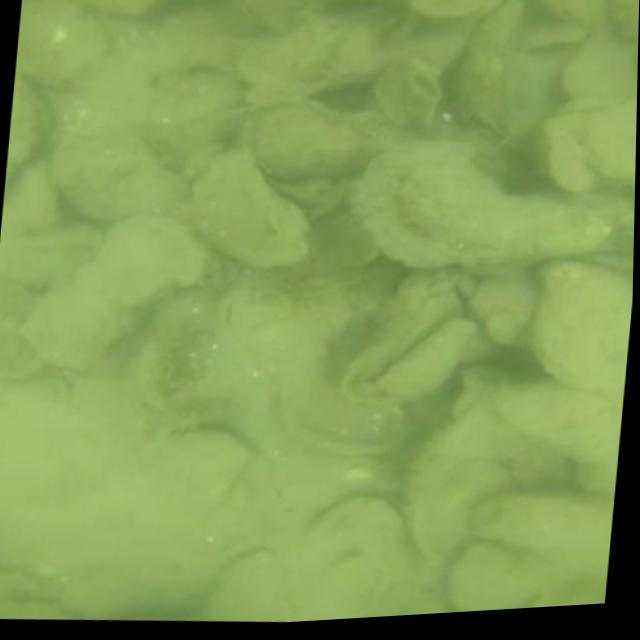Oyster-Closed: (295, 374, 405, 458)
Oyster-Indeterminate: (346, 139, 604, 264), (24, 212, 201, 369), (335, 268, 455, 404), (189, 150, 309, 264), (533, 263, 627, 393), (238, 20, 388, 100), (51, 135, 181, 221), (487, 382, 612, 465), (469, 489, 609, 563), (248, 103, 365, 177), (18, 0, 111, 93), (386, 320, 479, 400), (445, 541, 542, 611), (210, 550, 288, 619), (149, 69, 239, 124), (565, 34, 638, 99), (6, 77, 44, 169), (231, 0, 300, 31), (549, 0, 603, 26), (74, 0, 157, 15)
Oyster-Open: (141, 417, 271, 495)
